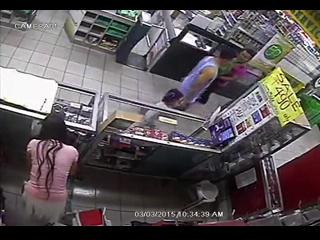Normal: (21, 114, 80, 225), (162, 49, 234, 111)
